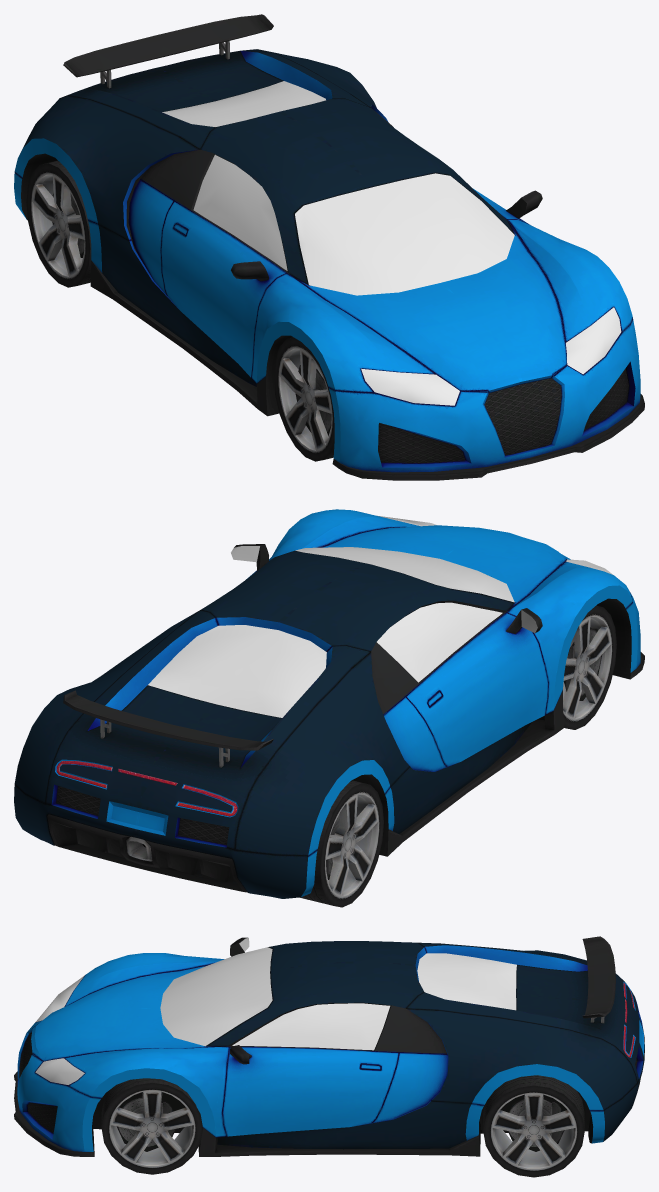
File: Bugatti Old.fbx
The picture shows the model from 3 angles, top to bottom: view 1: azimuth 30°, elevation 25°; view 2: azimuth 150°, elevation 25°; view 3: azimuth 270°, elevation 25°; orthographic projection. The views are drawn at different scales.
Parts seen in each view (by area): view 1: Body_29, Glass_29, Matte_29, Wheel_Back_R, Wheel_R, Glass_light; view 2: Body_29, Glass_29, Matte_29, Wheel_Back_R, Wheel_R, Taillights_29; view 3: Body_29, Glass_29, Matte_29, Wheel_Back_L, Wheel_L, Glass_light, break_L.
Part boxes in pixels (<box>): Body_29: <box>14,49,640,472</box>; Glass_29: <box>162,81,514,295</box>; Matte_29: <box>21,14,644,480</box>; Wheel_Back_R: <box>26,160,91,287</box>; Wheel_R: <box>274,337,334,461</box>; Glass_light: <box>361,307,621,405</box>; Body_29: <box>14,509,640,898</box>; Glass_29: <box>148,547,514,717</box>; Matte_29: <box>47,544,644,892</box>; Wheel_Back_R: <box>299,780,383,907</box>; Wheel_R: <box>563,605,616,729</box>; Taillights_29: <box>56,761,237,816</box>; Body_29: <box>17,941,644,1151</box>; Glass_29: <box>160,947,516,1050</box>; Matte_29: <box>14,936,640,1156</box>; Wheel_Back_L: <box>483,1075,584,1177</box>; Wheel_L: <box>101,1078,202,1174</box>; Glass_light: <box>35,975,84,1084</box>; break_L: <box>116,1096,175,1151</box>.
Bounding box in the file's own units: 308 × 184 × 680.
